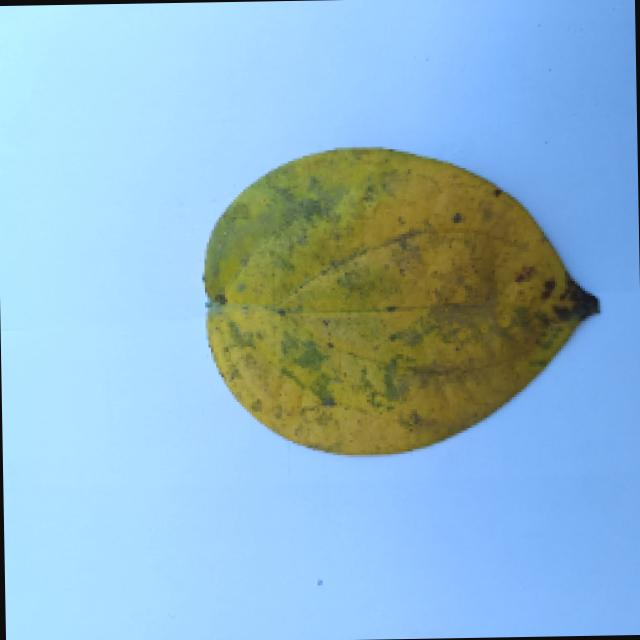slow-decline: (195, 143, 600, 462)
